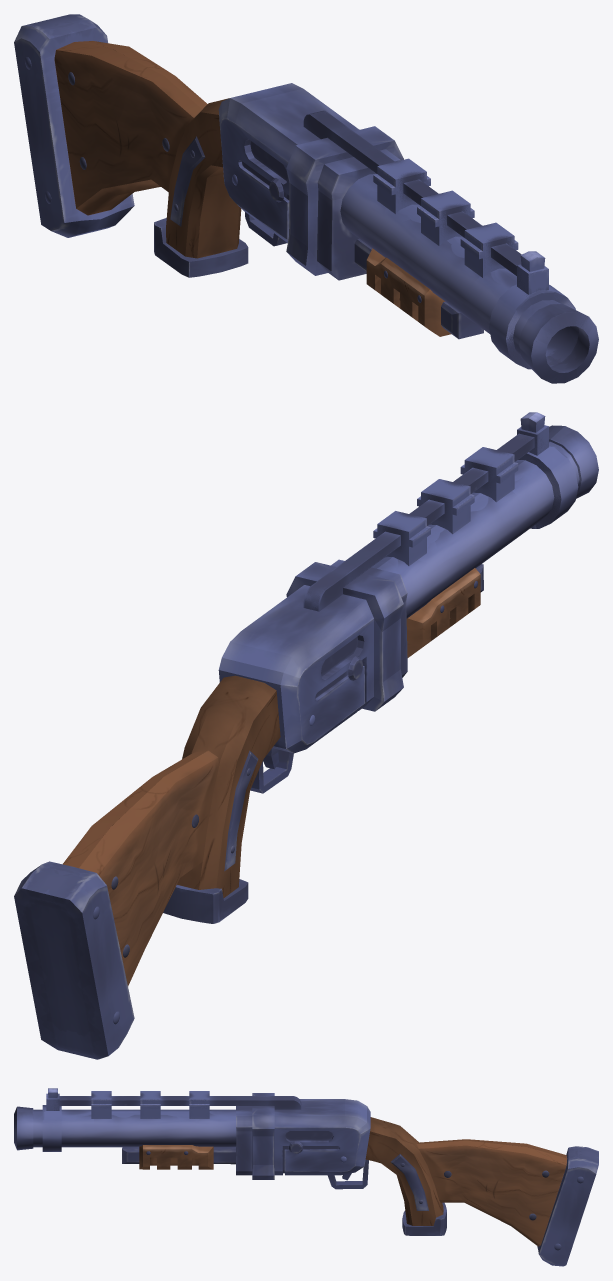
The model's file is Escopeta.fbx.
3 renders of one model, top to bottom at view 1: azimuth 30°, elevation 25°; view 2: azimuth 150°, elevation 25°; view 3: azimuth 270°, elevation 25°, orthographic. The views are drawn at different scales.
Visible parts, largest first — view 1: Escopeta1; view 2: Escopeta1; view 3: Escopeta1.
Part boxes in pixels (x1,y1,x2,y2): Escopeta1: (14, 14, 598, 383); Escopeta1: (14, 412, 598, 1059); Escopeta1: (14, 1088, 598, 1266).
Size of the model in its own units: 194 by 580 by 1792.
